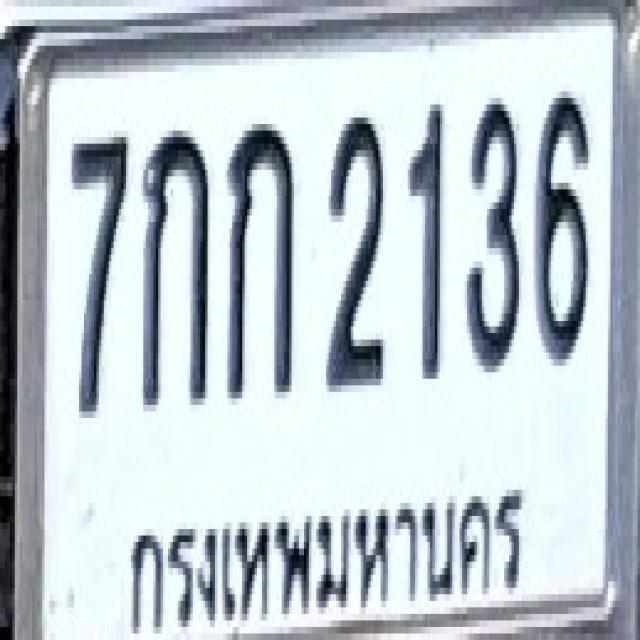1: (406, 98, 444, 379)
2: (325, 108, 384, 388)
3: (464, 95, 519, 369)
6: (535, 88, 589, 363)
7: (69, 131, 129, 418)
A01: (140, 124, 208, 412), (225, 118, 294, 398)
BKK: (122, 461, 535, 640)
